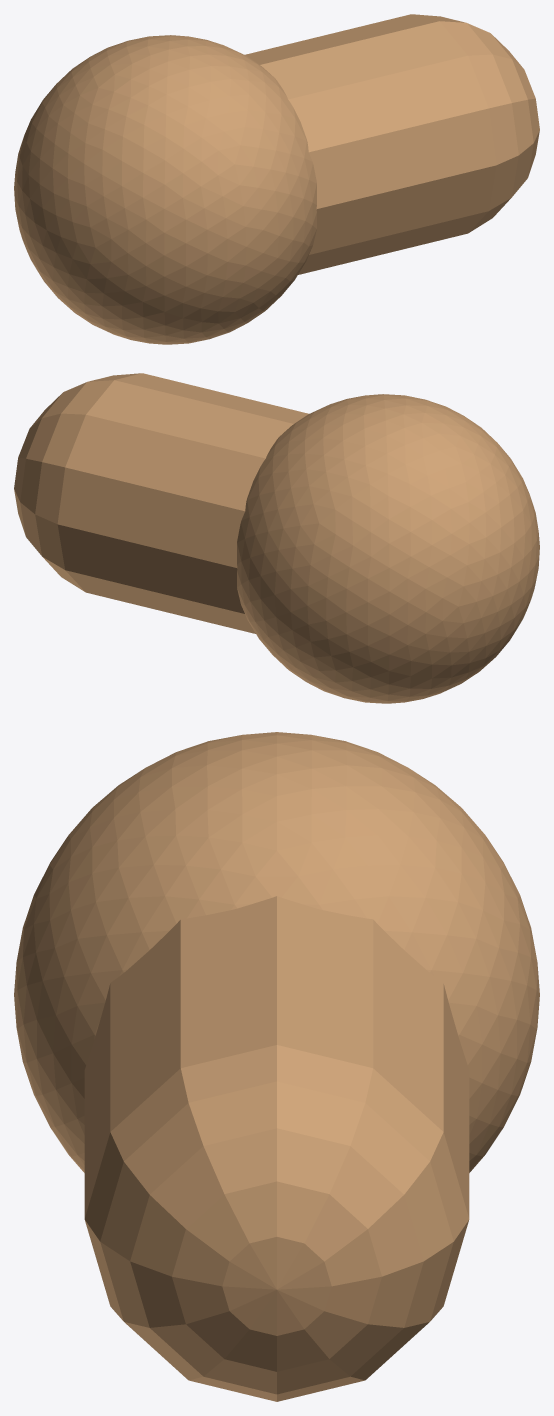
3 views of the same model, one above another, from view 1: azimuth 30°, elevation 25°; view 2: azimuth 150°, elevation 25°; view 3: azimuth 270°, elevation 25° (orthographic). The views are drawn at different scales.
Parts seen in each view (by area): view 1: world; view 2: world; view 3: world.
Part boxes in pixels (x1,y1,x2,y2): world: (14,14,539,344); world: (14,373,539,703); world: (14,732,539,1401).
Bounding box in the file's own units: 0.168 × 0.092 × 0.092.
